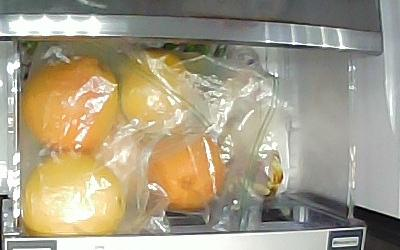grapefruit_vinyl: (23, 55, 117, 155), (20, 155, 124, 237), (146, 132, 228, 211), (120, 50, 189, 129)
